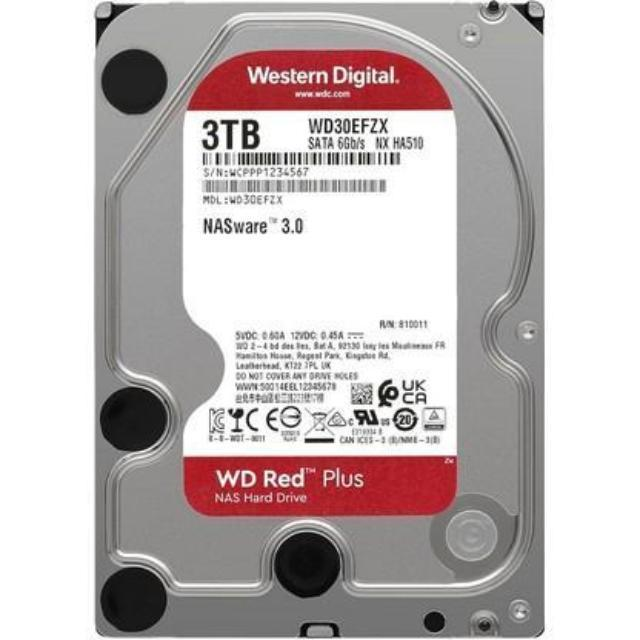DISK: (89, 0, 552, 640)
